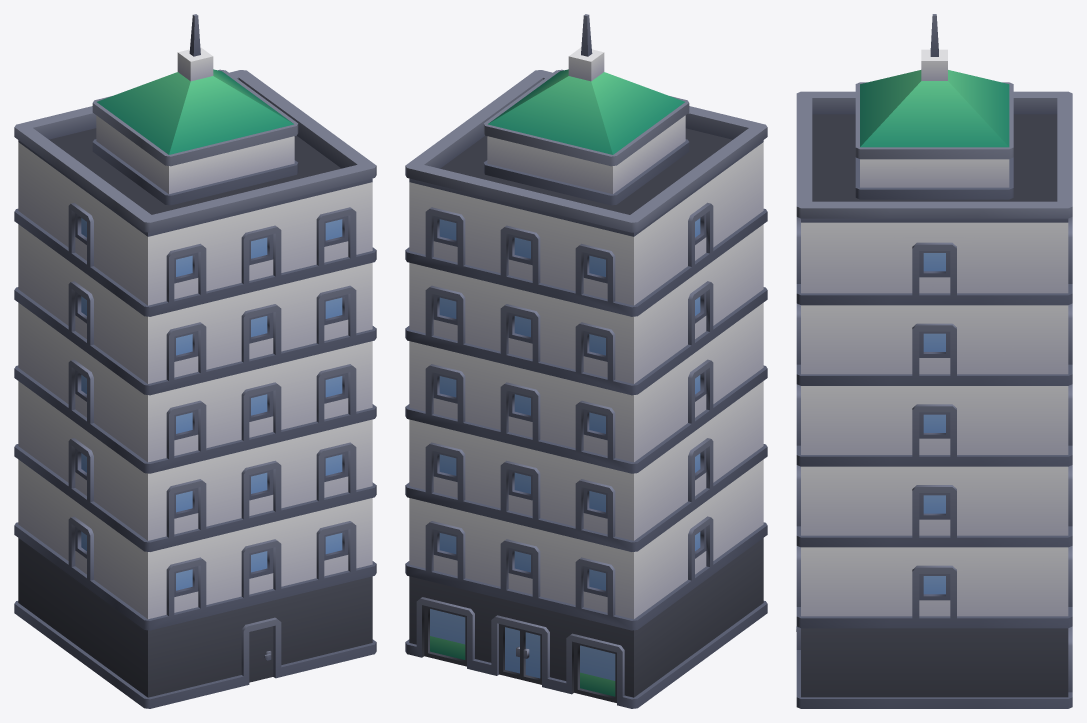
File: building-m.glb
3 views of the same model, side by side, from view 1: azimuth 30°, elevation 25°; view 2: azimuth 150°, elevation 25°; view 3: azimuth 270°, elevation 25° (orthographic). The views are drawn at different scales.
Parts seen in each view (by area): view 1: building-m; view 2: building-m; view 3: building-m.
Part boxes in pixels (<box>): building-m: <box>14,14,376,708</box>; building-m: <box>405,14,767,708</box>; building-m: <box>796,14,1072,708</box>.
Bounding box in the file's own units: 1.24 × 3.15 × 1.24.
Materials: 1 (1 with a texture image).
